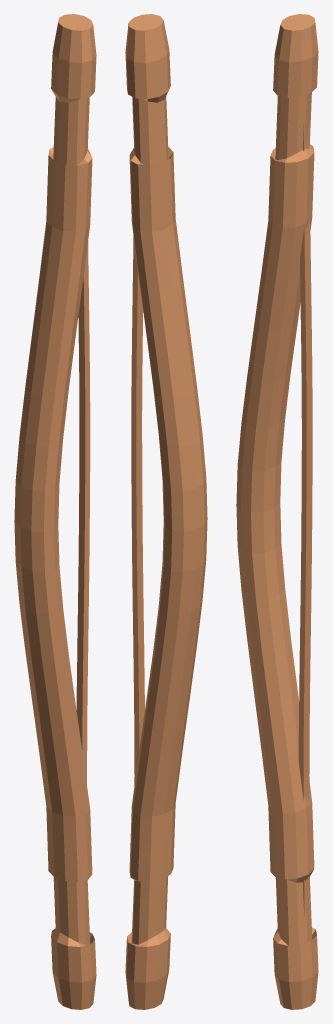
File: bow.fbx
3 views of the same model, side by side, from view 1: azimuth 30°, elevation 25°; view 2: azimuth 150°, elevation 25°; view 3: azimuth 330°, elevation 25° (orthographic).
Visible parts, largest first — view 1: bow; view 2: bow; view 3: bow.
Boxes of the visible parts, x1,y1,x2,y2 form: bow: (14,14,96,1009); bow: (125,14,207,1009); bow: (236,14,318,1009).
Bounding box in the file's own units: 6.26 × 79.61 × 3.81.
